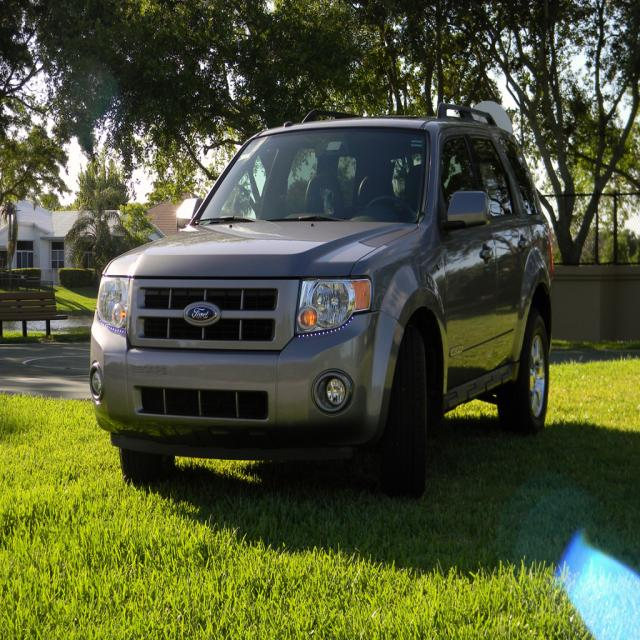car: (88, 109, 556, 491)
